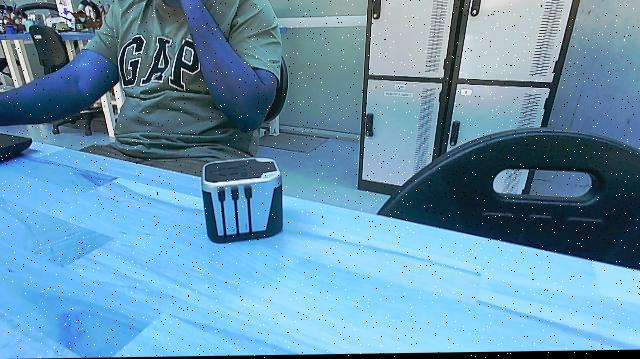adapter: (194, 158, 290, 245)
